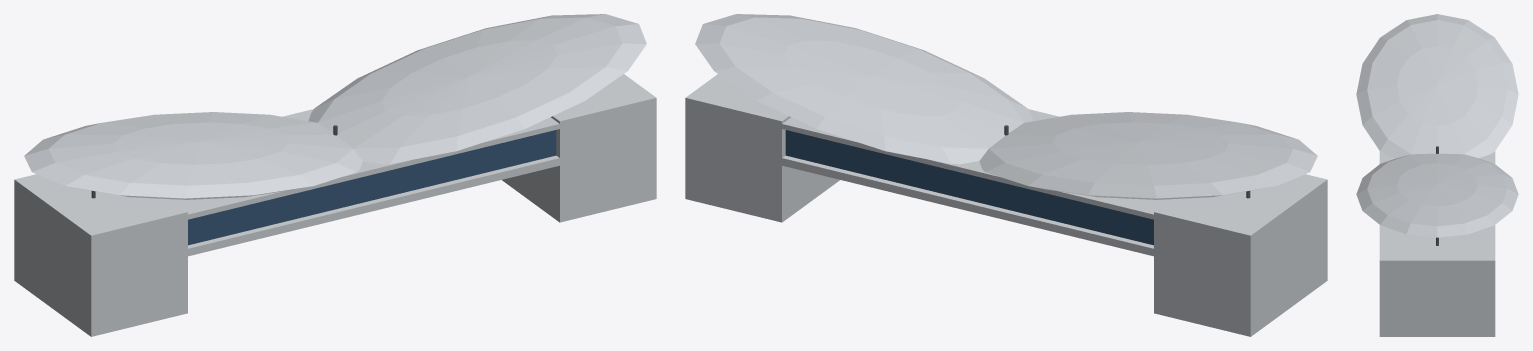
The model's file is shanghai-bridge.glb.
3 views of the same model, side by side, from view 1: azimuth 30°, elevation 25°; view 2: azimuth 150°, elevation 25°; view 3: azimuth 270°, elevation 25° (orthographic). The views are drawn at different scales.
Parts seen in each view (by area): view 1: shanghai-bridge; view 2: shanghai-bridge; view 3: shanghai-bridge.
Part boxes in pixels (x1,y1,x2,y2): shanghai-bridge: (14, 14, 656, 336); shanghai-bridge: (685, 14, 1327, 336); shanghai-bridge: (1356, 14, 1518, 336).
Bounding box in the file's own units: 100 × 22.97 × 30.8.
